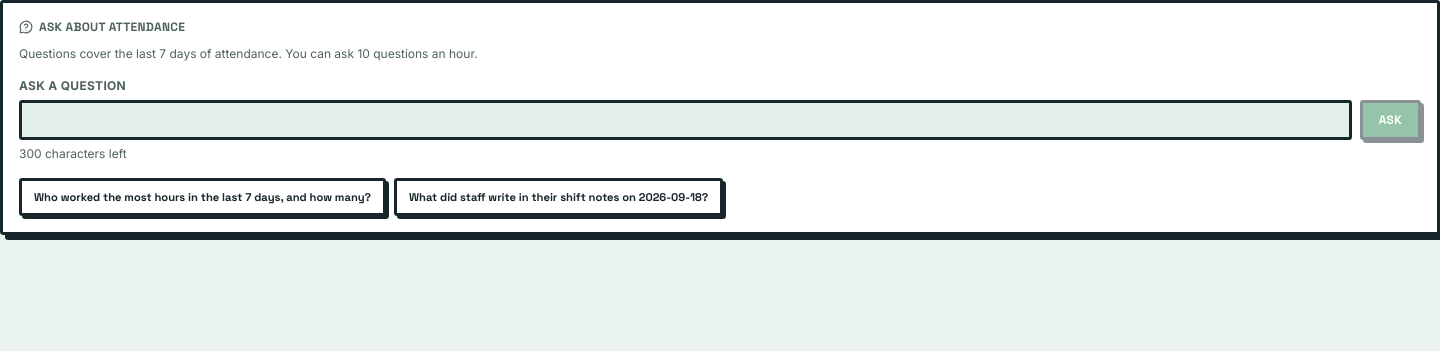
Test: AskCard › disables the controls and makes one request while loading
What coordinates should you click on to do the following:
click the button "Who worked the most hours in the last 7 days, and how many?"
I would click on:
 (202, 197)
Its box is [19,178,386,216].
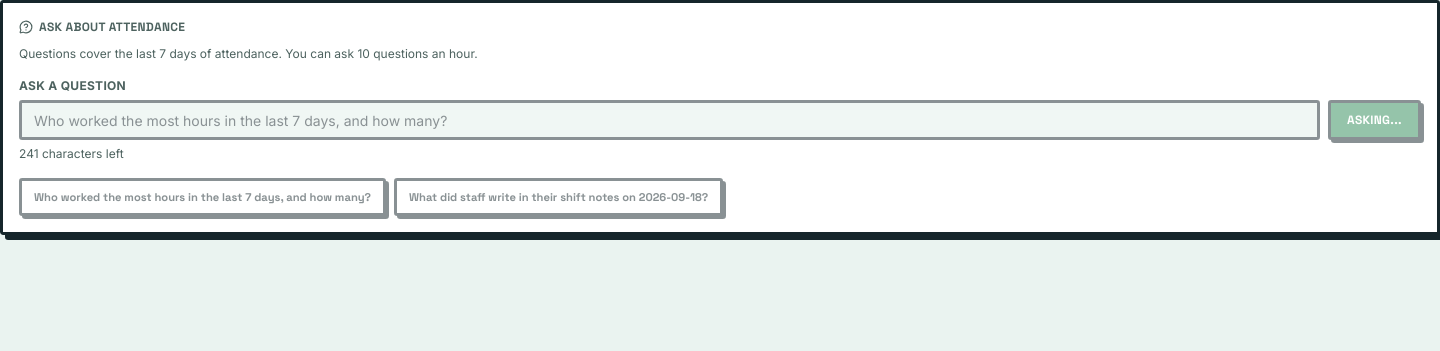
Expected: the button "Asking..." is disabled, [1328,100,1421,140]
Result: the button "What did staff write in their shift notes on 2026-09-18?" is disabled
What coordinates should you click on to do the following:
click the button "What did staff write in their shift notes on 2026-09-18?"
I would click on:
 (559, 197)
Its box is [394,178,723,216].
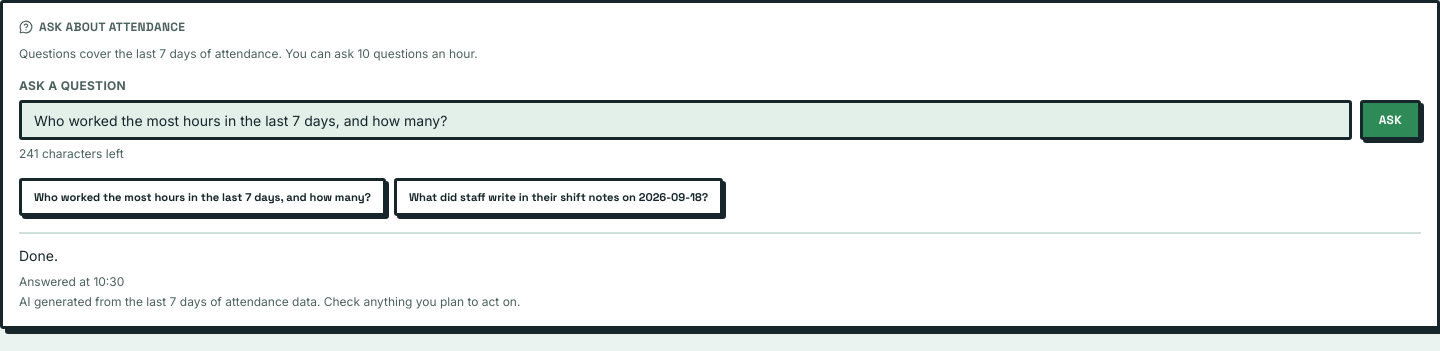
Result: the text "Done." is shown at [19,247,58,264]
